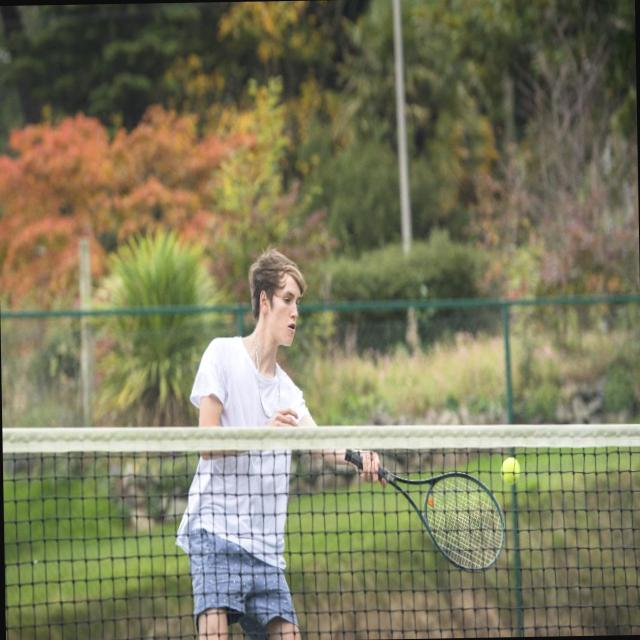Tennis Ball: (502, 457, 520, 483)
